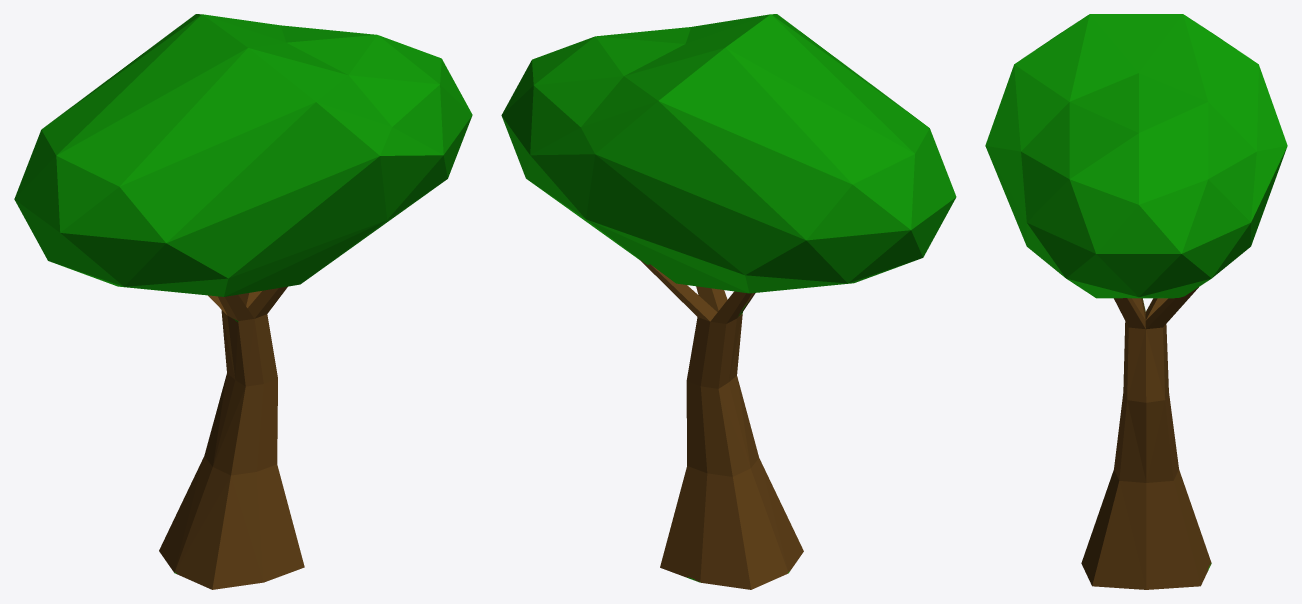
File: tree.obj
3 views of the same model, side by side, from view 1: azimuth 30°, elevation 25°; view 2: azimuth 150°, elevation 25°; view 3: azimuth 270°, elevation 25° (orthographic). The views are drawn at different scales.
Parts seen in each view (by area): view 1: Tree_Cube; view 2: Tree_Cube; view 3: Tree_Cube.
Part boxes in pixels (x1,y1,x2,y2): Tree_Cube: [14, 14, 472, 589]; Tree_Cube: [501, 14, 956, 589]; Tree_Cube: [985, 14, 1287, 589].
Bounding box in the file's own units: 8.98 × 11.04 × 5.57.
